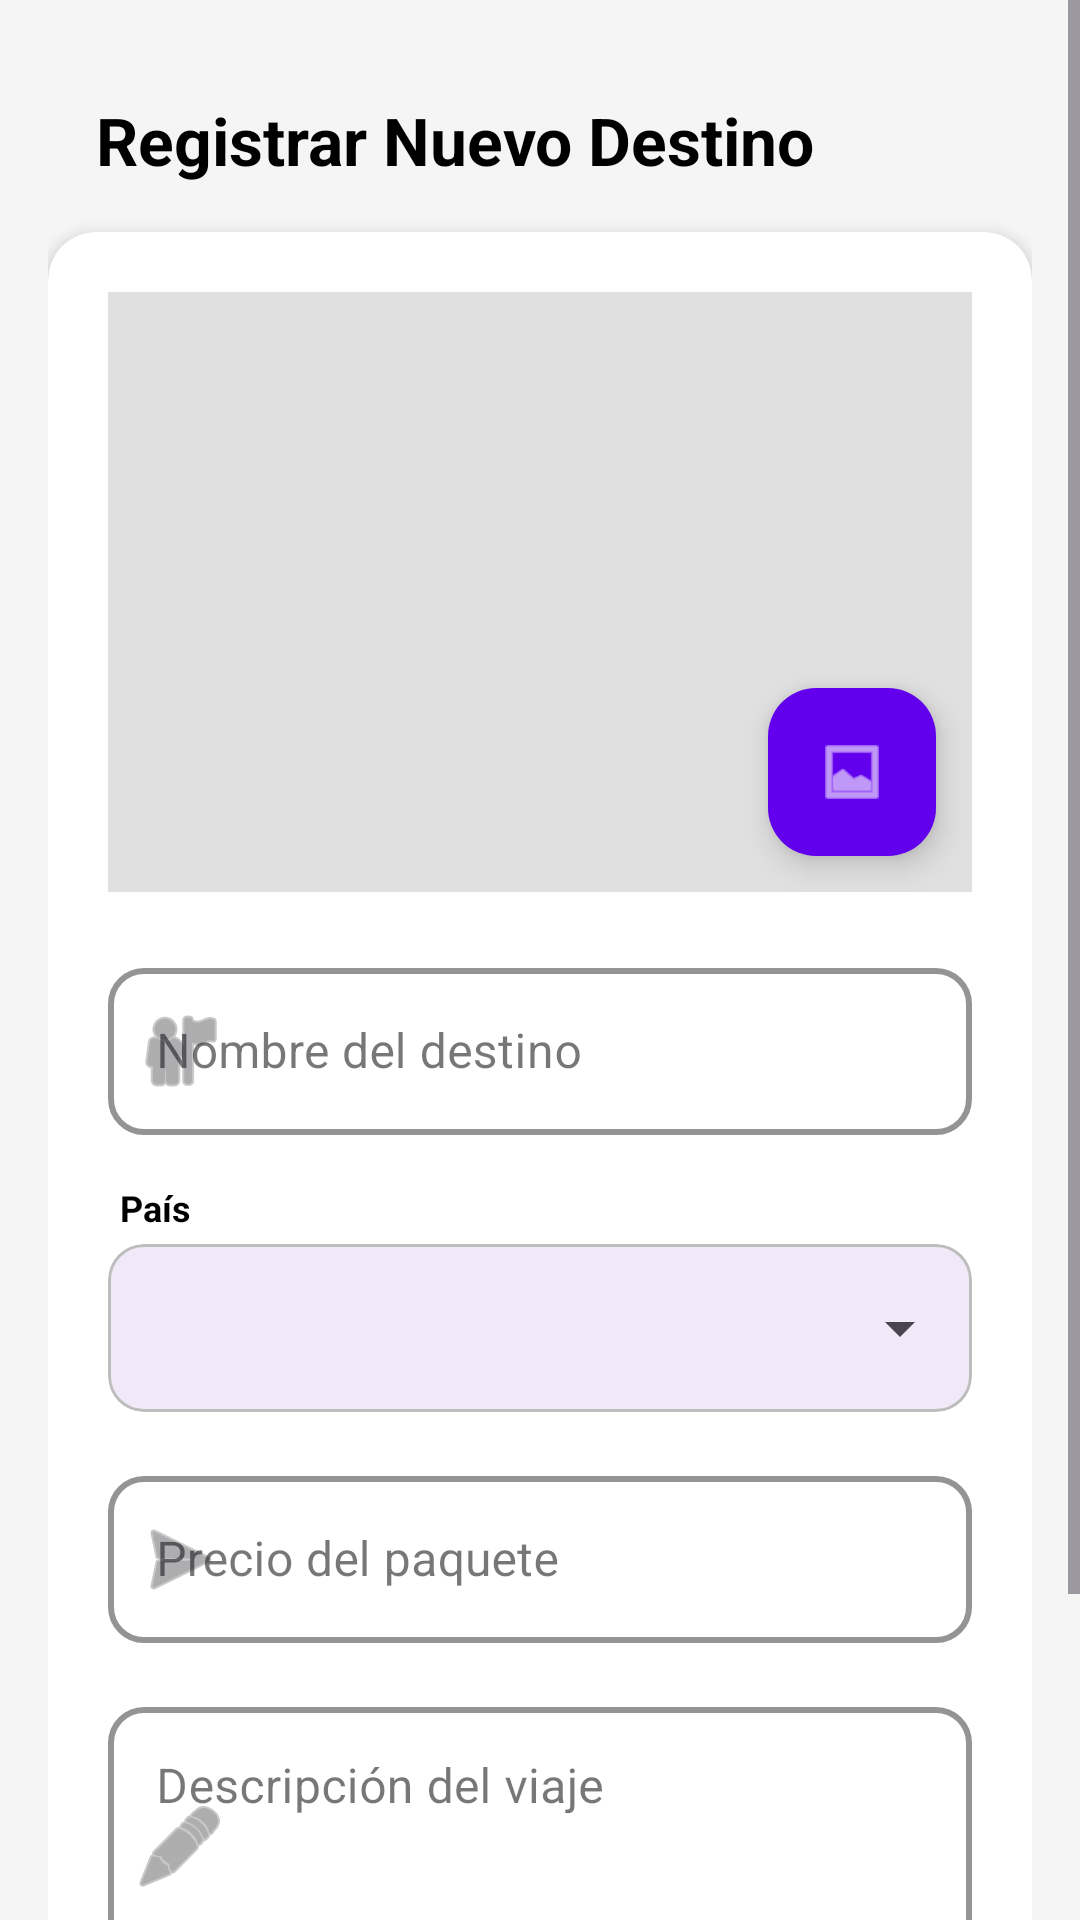

Point at icon controls on the screen. Image size 1080px x 1920px, points as (x,y).
Seleccionar imagen: (852,772)
